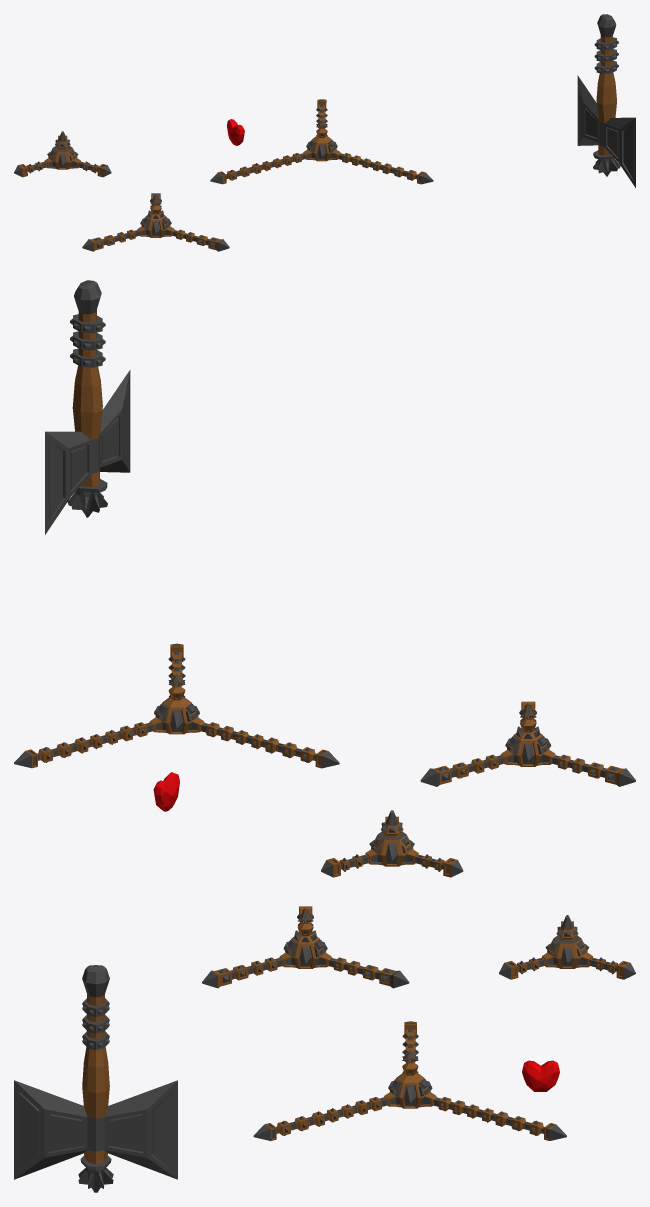
The model's file is Newtrap.fbx.
The picture shows the model from 3 angles, top to bottom: view 1: azimuth 30°, elevation 25°; view 2: azimuth 150°, elevation 25°; view 3: azimuth 270°, elevation 25°; orthographic projection. The views are drawn at different scales.
Visible parts, largest first — view 1: Cylinder.009, Cylinder.024, Cylinder.023, Cylinder.022, Cube.014; view 2: Cylinder.009, Cylinder.024, Cylinder.023, Cylinder.022; view 3: Cylinder.009, Cylinder.024, Cylinder.023, Cylinder.022, Cube.014.
Part boxes in pixels (x1,y1,x2,y2): Cylinder.009: (577, 14, 635, 187); Cylinder.024: (210, 99, 433, 184); Cylinder.023: (82, 193, 229, 251); Cylinder.022: (14, 131, 111, 177); Cube.014: (227, 119, 244, 145); Cylinder.009: (45, 280, 130, 534); Cylinder.024: (14, 643, 339, 768); Cylinder.023: (420, 701, 635, 786); Cylinder.022: (321, 810, 463, 877); Cylinder.009: (14, 965, 177, 1192); Cylinder.024: (253, 1021, 566, 1140); Cylinder.023: (202, 906, 409, 988); Cylinder.022: (499, 915, 635, 979); Cube.014: (522, 1060, 559, 1091).
Bounding box in the file's own units: 5319 × 2124 × 4419.
